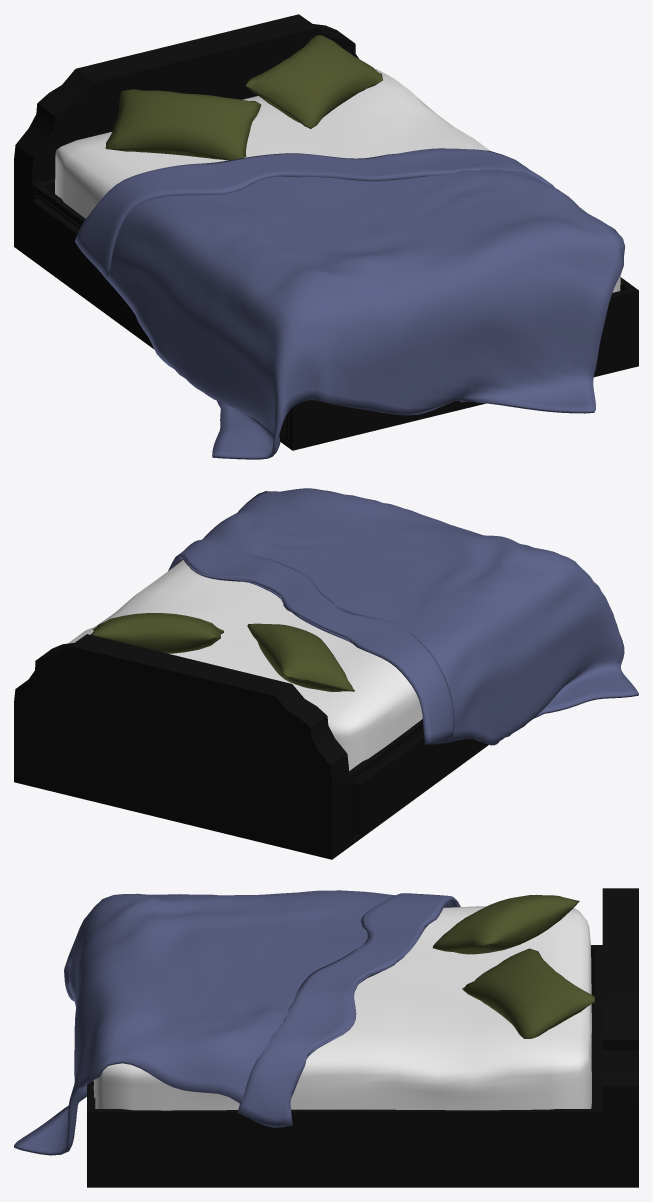
The model's file is Cama Fix.fbx.
3 renders of one model, top to bottom at view 1: azimuth 30°, elevation 25°; view 2: azimuth 150°, elevation 25°; view 3: azimuth 270°, elevation 25°, orthographic. The views are drawn at different scales.
Visible parts, largest first — view 1: Cama; view 2: Cama; view 3: Cama.
Boxes of the visible parts, <box> form: Cama: <box>14,14,638,459</box>; Cama: <box>14,488,638,859</box>; Cama: <box>14,888,638,1187</box>.
Bounding box in the file's own units: 175 × 65.64 × 221.
